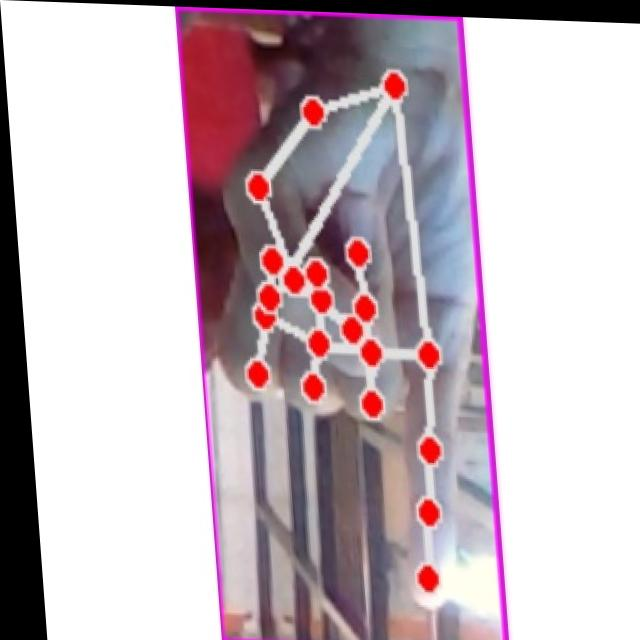I: (194, 37, 489, 617)
